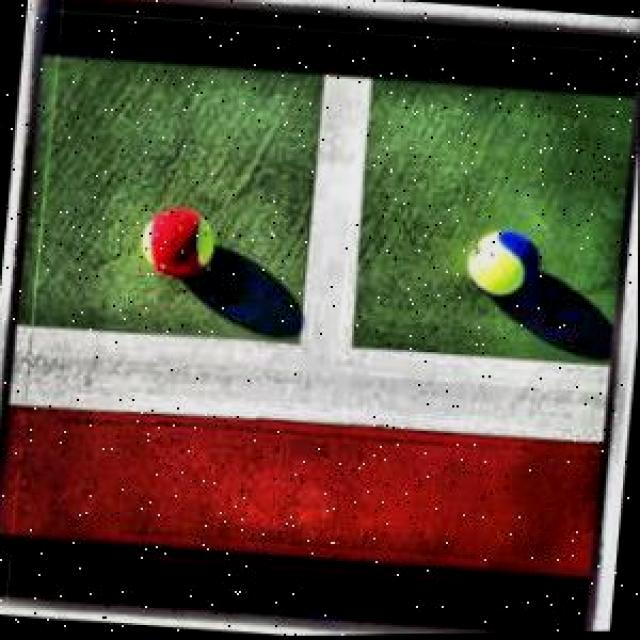Tennis Ball: (140, 206, 219, 276), (463, 233, 540, 301)
